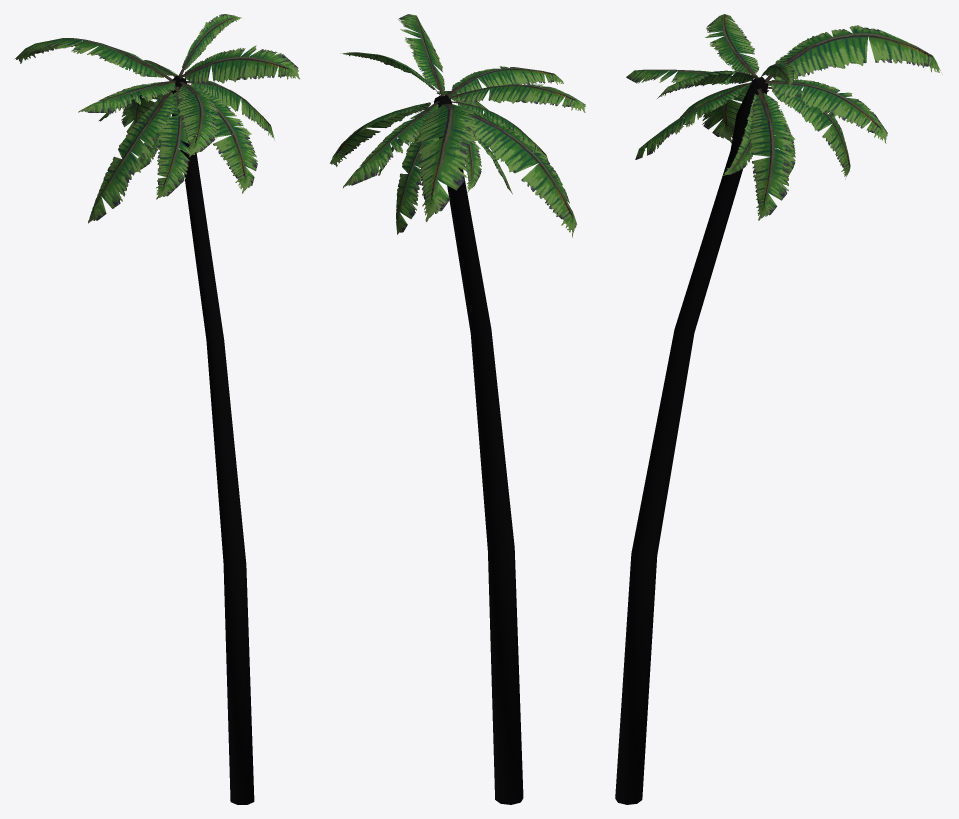
The model's file is tree_02b.fbx.
3 views of the same model, side by side, from view 1: azimuth 30°, elevation 25°; view 2: azimuth 150°, elevation 25°; view 3: azimuth 270°, elevation 25° (orthographic). The views are drawn at different scales.
Visible parts, largest first — view 1: tree_02b; view 2: tree_02b; view 3: tree_02b.
Part boxes in pixels (x1,y1,x2,y2): tree_02b: (15,14,299,804); tree_02b: (330,14,585,804); tree_02b: (615,14,942,804).
Bounding box in the file's own units: 5.37 × 17.19 × 6.77.
